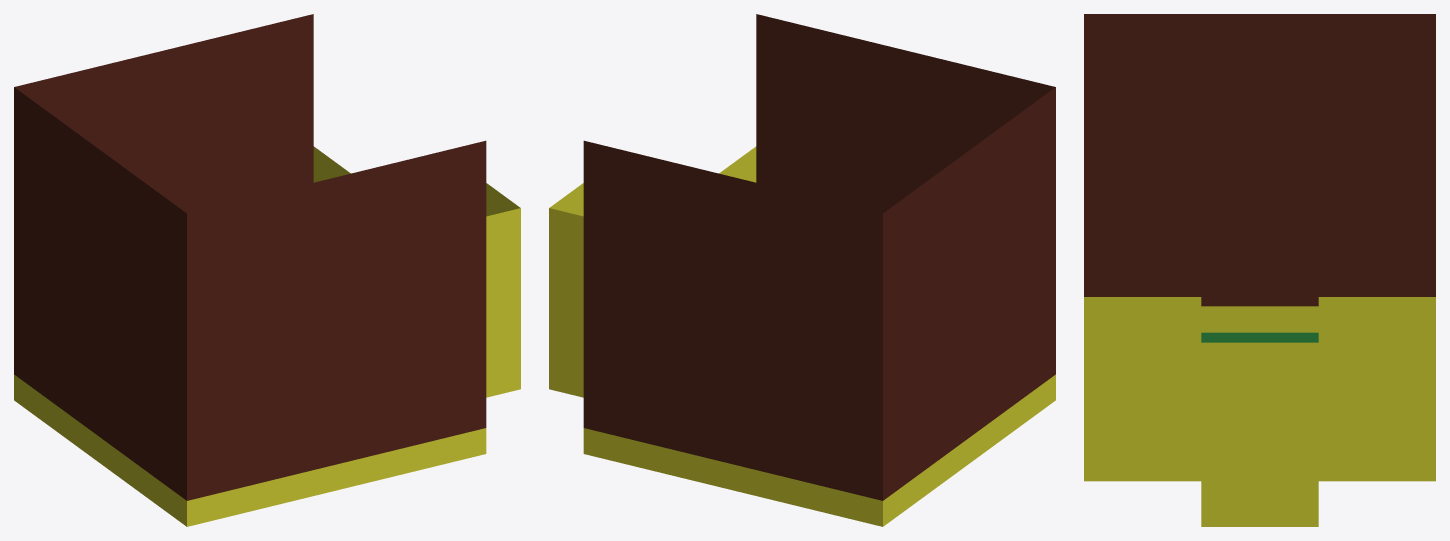
Rendered from one room.dae.
3 renders of one model, left to right at view 1: azimuth 30°, elevation 25°; view 2: azimuth 150°, elevation 25°; view 3: azimuth 270°, elevation 25°, orthographic.
Visible parts, largest first — view 1: Cube.002, Cube.003; view 2: Cube.002, Cube.003; view 3: Cube.002, Cube.003.
Boxes of the visible parts, left/top/right/bottom form: Cube.002: left=14, top=14, right=486, bottom=526; Cube.003: left=313, top=146, right=520, bottom=397; Cube.002: left=583, top=14, right=1055, bottom=526; Cube.003: left=549, top=146, right=756, bottom=397; Cube.002: left=1084, top=14, right=1435, bottom=342; Cube.003: left=1084, top=297, right=1435, bottom=526.
Size of the model in its own units: 2.61 by 2 by 2.
